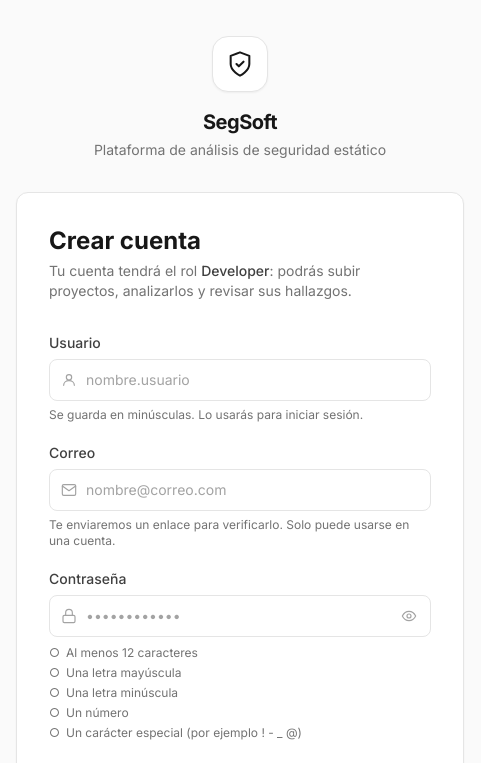
Test case: RegisterForm › shows and hides each password field independently with its eye button
Type "abc" into the password field labelled "Contraseña" at (240, 616), box [49,595,431,637]
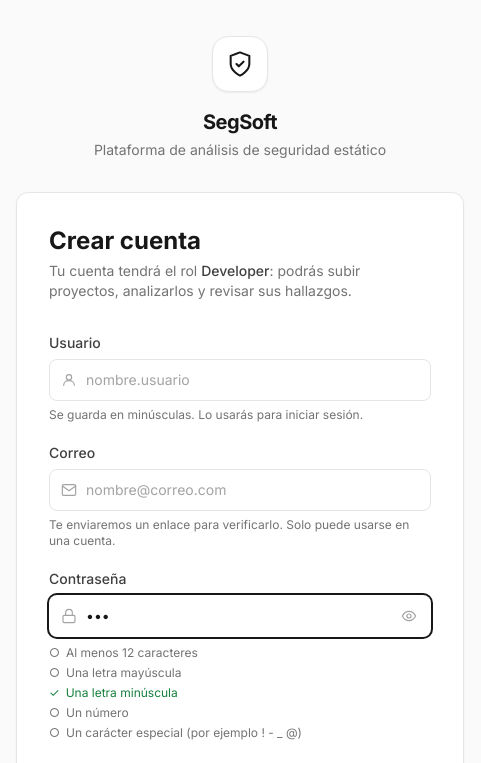
Click the button named "mostrar contraseña" at (409, 616), box [395,602,423,630]
(page scrolled)
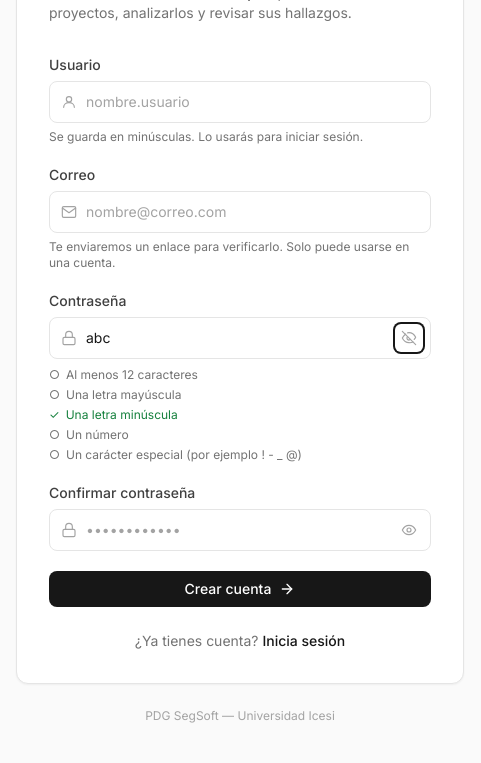
Check: the field labelled "Contraseña" shows its text, box [49,317,431,359]
Click the button named "mostrar confirmación de contraseña" at (409, 530), box [395,516,423,544]
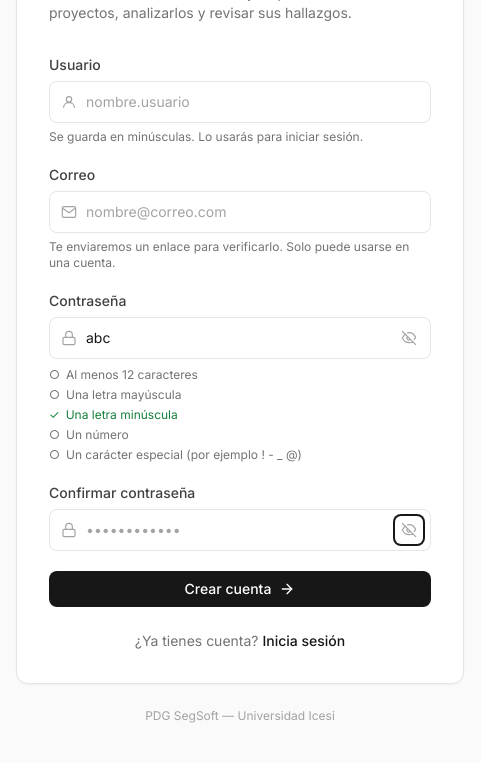
Click the button named "ocultar contraseña" at (409, 338), box [395,324,423,352]
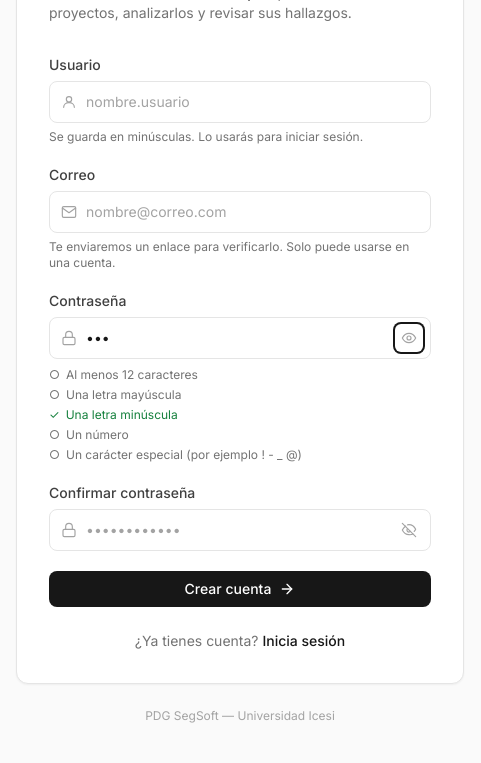
Check: the password field labelled "Contraseña" hides its text, box [49,317,431,359]
